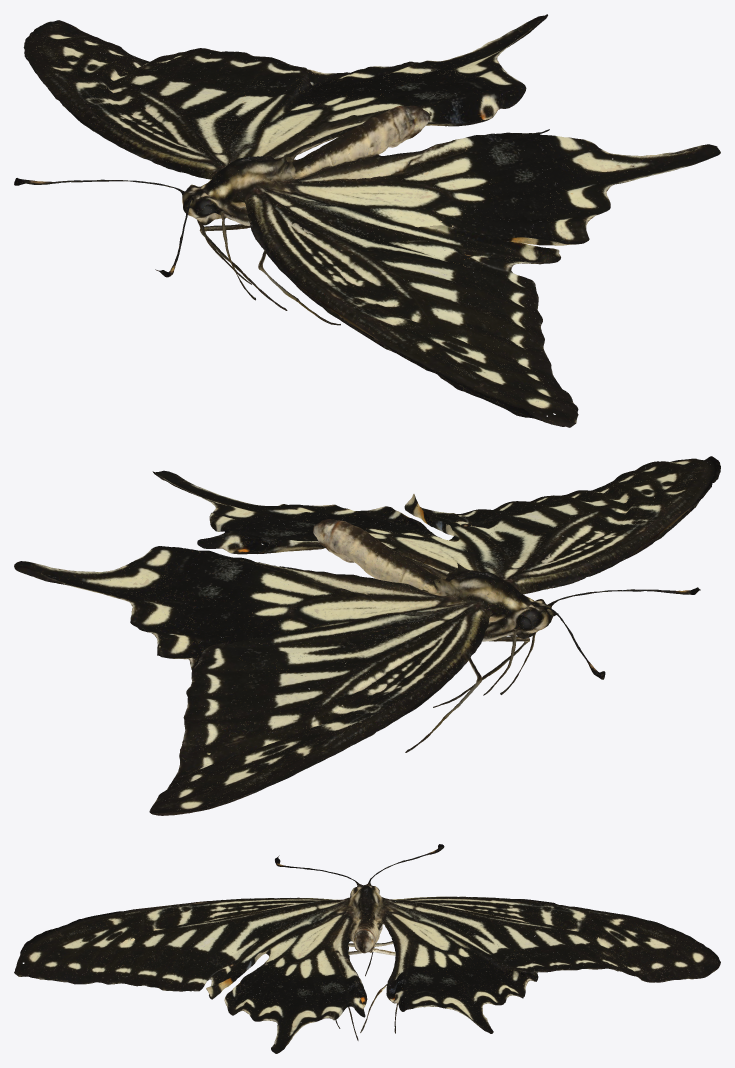
Rendered from papilio_xuthus.glb.
The picture shows the model from 3 angles, top to bottom: view 1: azimuth 30°, elevation 25°; view 2: azimuth 150°, elevation 25°; view 3: azimuth 270°, elevation 25°; orthographic projection. The views are drawn at different scales.
Visible parts, largest first — view 1: body.001_5; view 2: body.001_5; view 3: body.001_5.
Part boxes in pixels (box(x1,y1,x2,y2)): body.001_5: box(14, 14, 720, 427); body.001_5: box(14, 456, 720, 815); body.001_5: box(14, 844, 720, 1053).
Size of the model in its own units: 4.46 by 1.45 by 6.92.
Materials: 2 (2 with a texture image).
